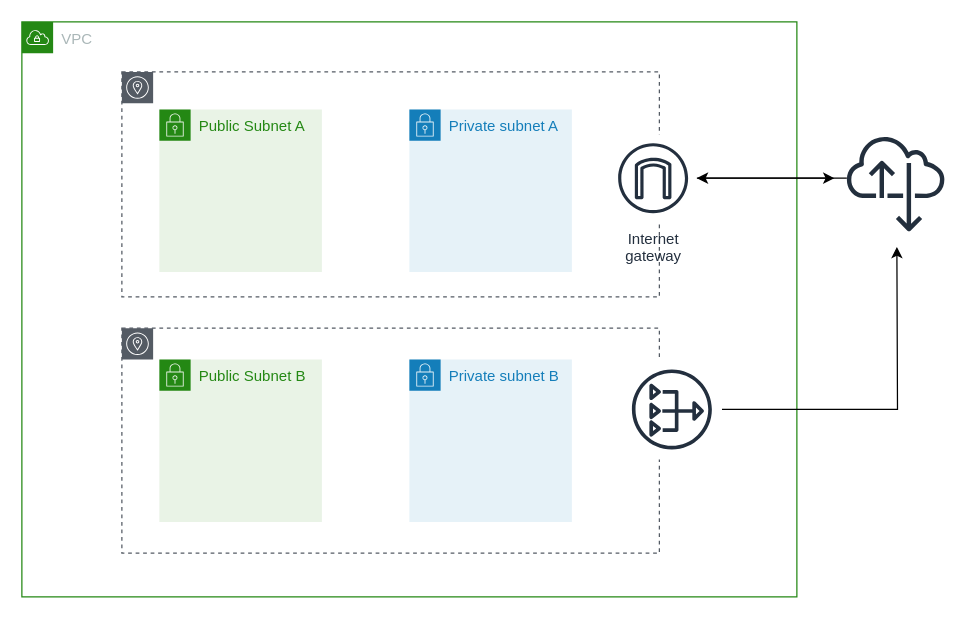
Image size: 966x619. Some labels were removed from this diagram. The shapes that lost their labels are listed below. From the top down, each one's box as (x1, y1, x2, y2) in pixels, then its label:
(121, 71, 659, 297): Availability zone 1
(621, 358, 722, 459): NAT gateway
(121, 327, 659, 553): Availability zone 2
